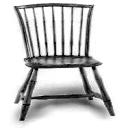chair_success: (6, 1, 123, 121)
